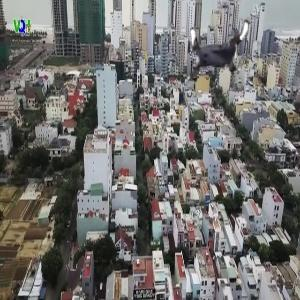drone: (181, 15, 257, 91)
